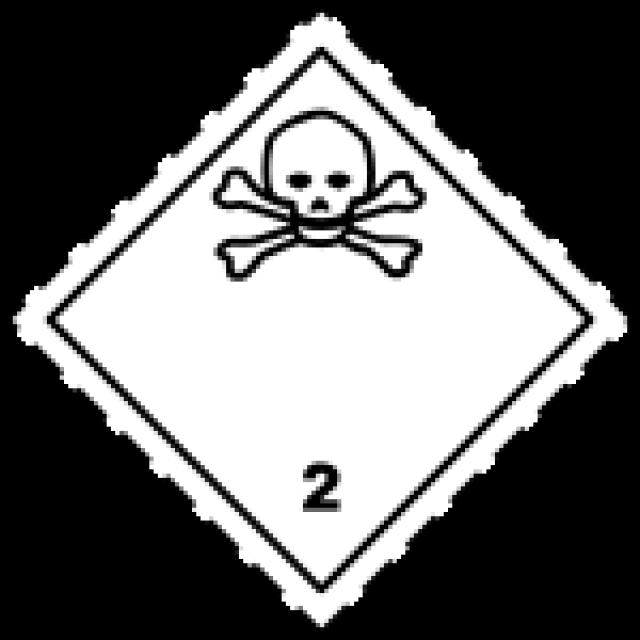Division 2-3: (4, 4, 640, 640)
